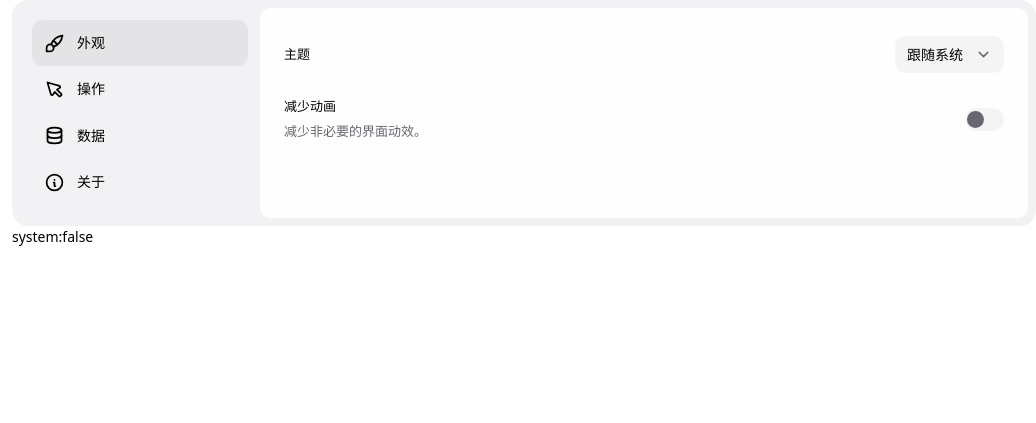
Scenario: 软件设置直接应用 › 操作中的托盘闪烁默认开启，关闭后保存偏好并在重新打开时保留
Later steps or results of the test are not shown.
Click the button "操作".
click(140, 90)  # box [32,66,248,113]
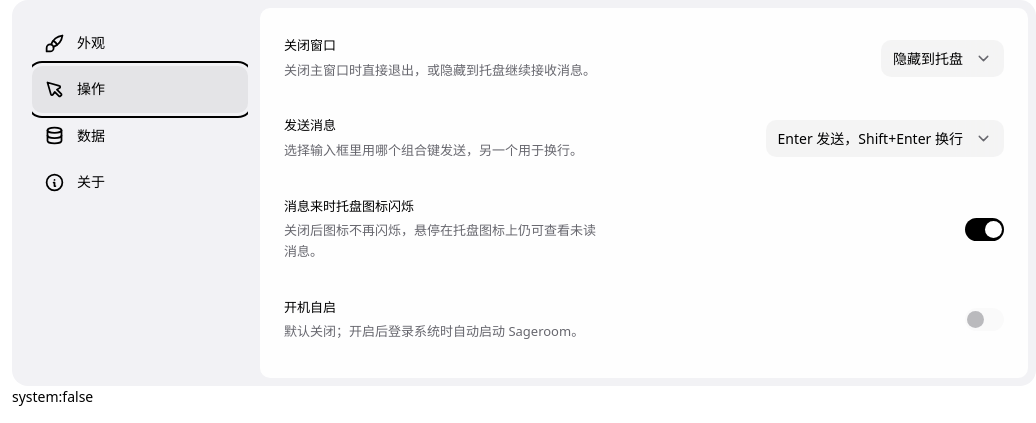
expect the switch named "消息来时托盘图标闪烁" is checked: met
Click the switch named "消息来时托盘图标闪烁".
click(984, 229)  # box [965,218,1004,241]
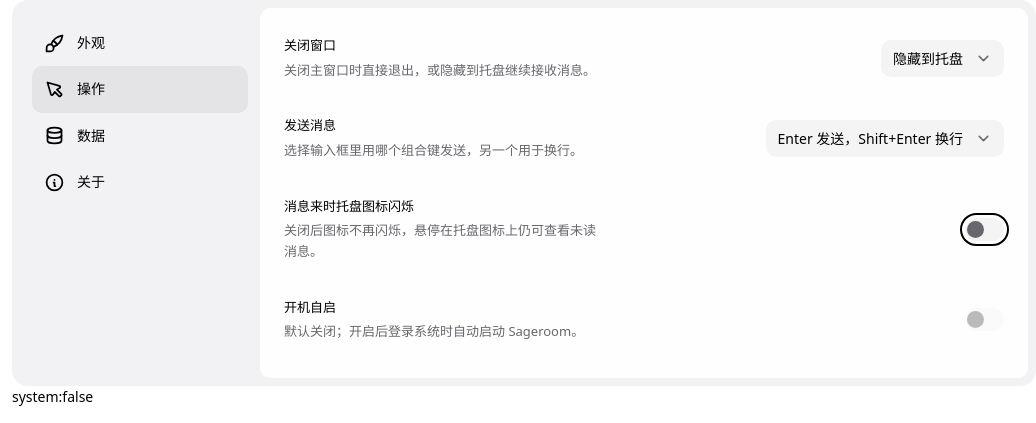
expect the switch named "消息来时托盘图标闪烁" is not checked: met, box [965,218,1004,241]
